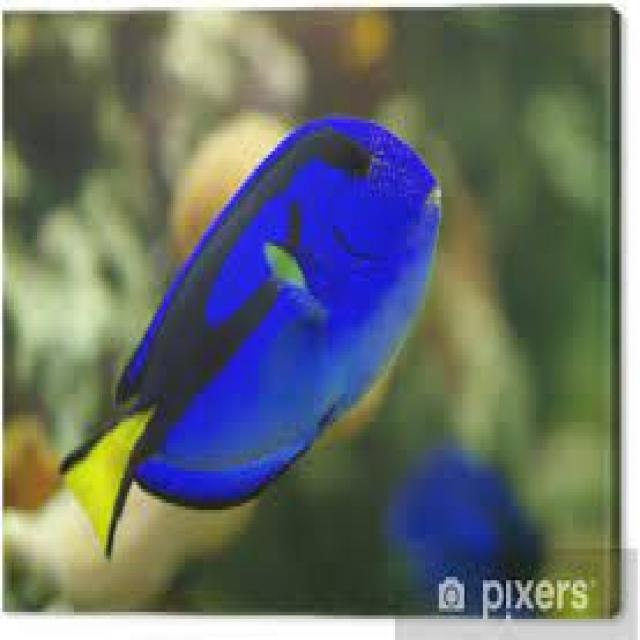BlueTang: (59, 119, 438, 560)
